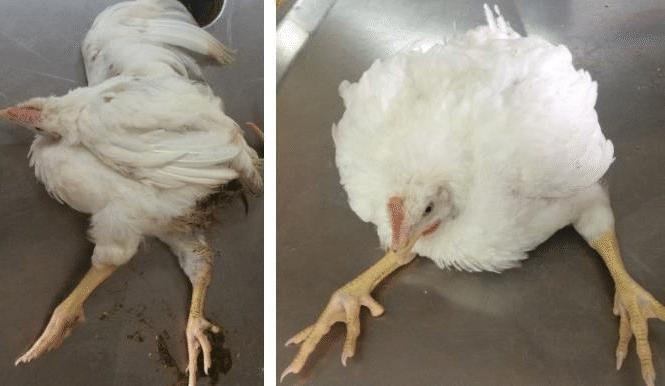AbNormal: (297, 8, 665, 386), (4, 0, 261, 386)
